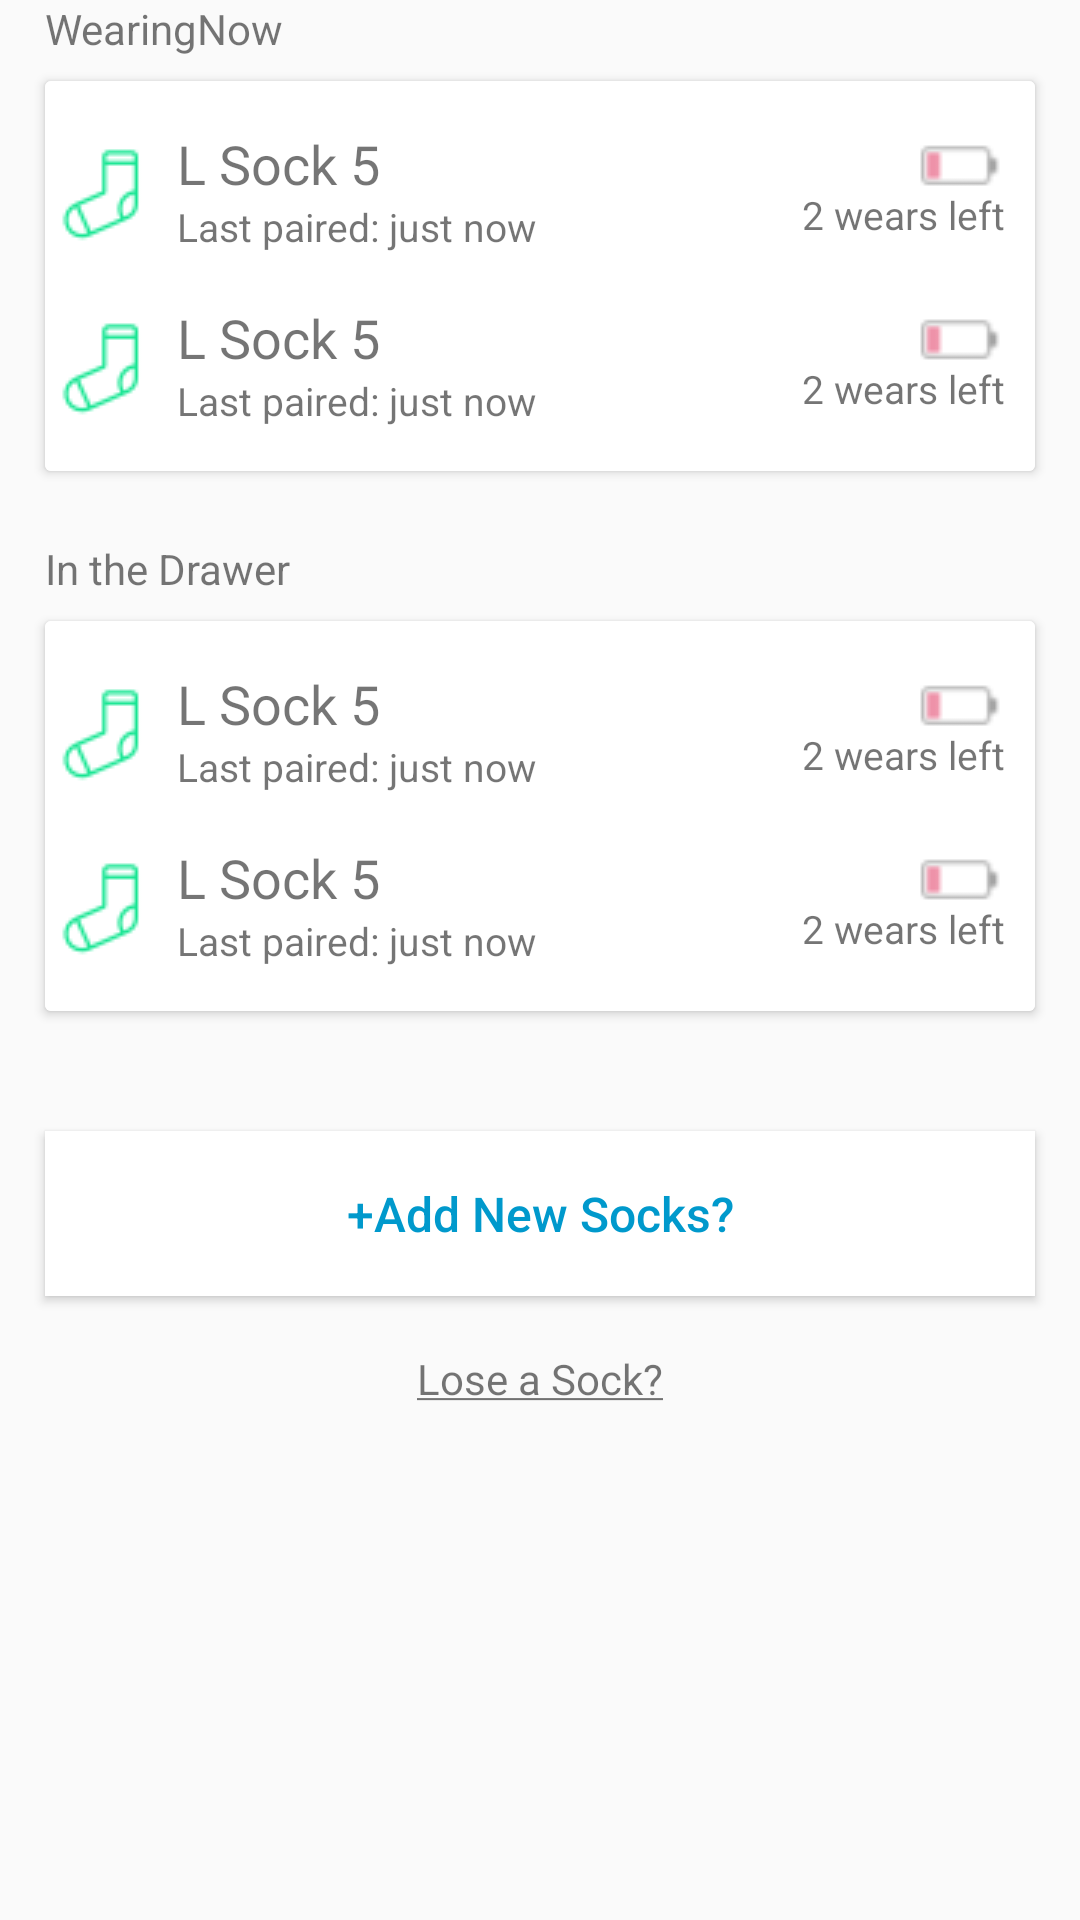

Icon bounding boxes for this 1080px x 1920px phone screenshot, format detection(x1, y1, x2, y2):
batter ex: detection(921, 146, 998, 185), detection(921, 320, 998, 359), detection(921, 686, 998, 725), detection(921, 860, 998, 899)
foot: detection(62, 149, 139, 240), detection(62, 323, 139, 414), detection(62, 689, 139, 780), detection(62, 863, 139, 954)
